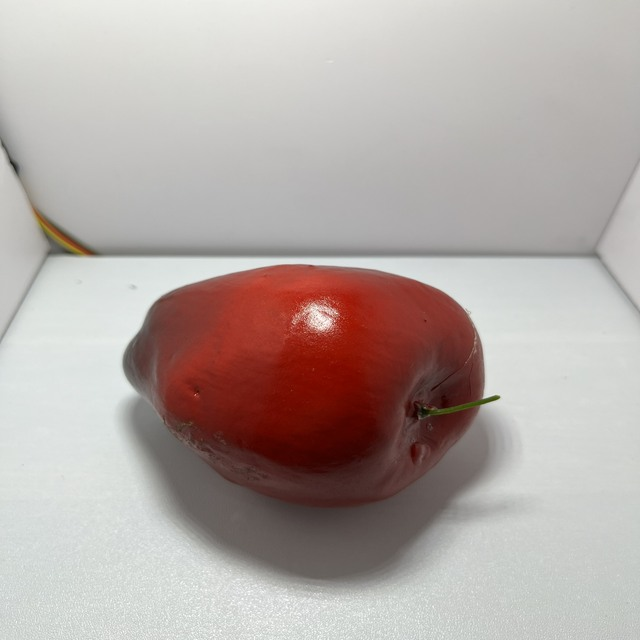Tao: (112, 260, 502, 515)
